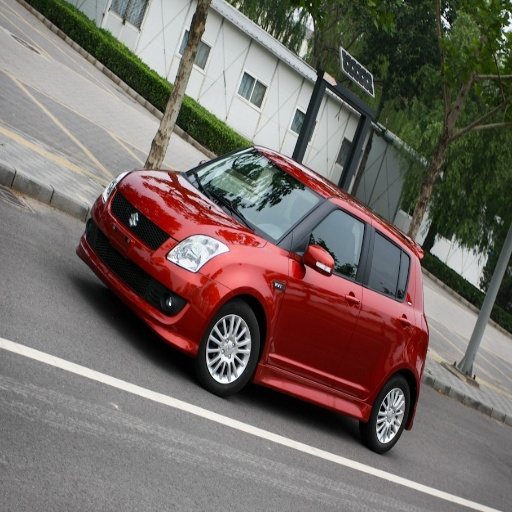front_left_door: (280, 224, 370, 370)
trunk: (364, 325, 419, 402)
